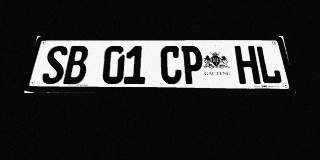0: (101, 46, 125, 84)
1: (124, 46, 146, 84)
B: (63, 46, 89, 84)
C: (161, 46, 182, 84)
H: (234, 46, 261, 84)
L: (255, 46, 283, 84)
P: (181, 46, 204, 84)
S: (41, 46, 69, 84)
